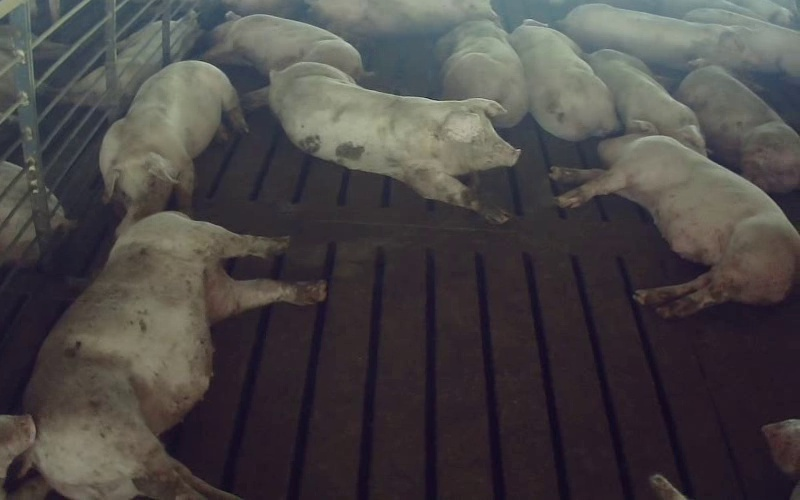pig: (24, 211, 324, 499), (551, 133, 799, 317), (269, 62, 519, 222), (99, 61, 247, 218), (675, 59, 799, 192), (509, 20, 618, 140), (586, 49, 706, 155), (557, 4, 749, 70), (203, 11, 362, 78), (436, 20, 527, 127), (307, 0, 496, 35)
